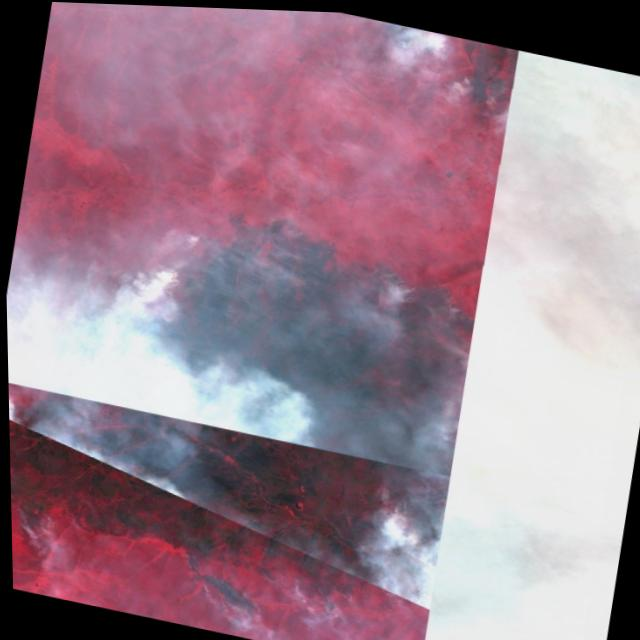fire: (400, 23, 508, 107), (132, 241, 190, 320), (279, 564, 352, 613), (190, 573, 260, 619), (9, 502, 58, 537), (382, 266, 422, 306)
